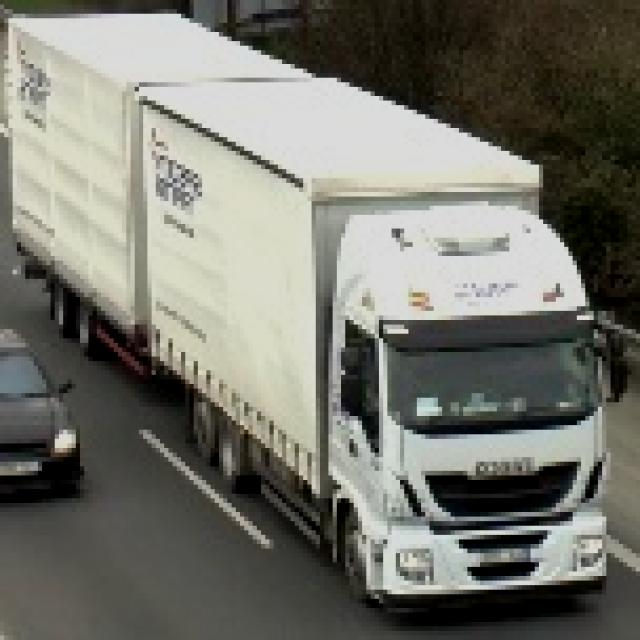SED: (0, 326, 85, 492)
TRUCK: (4, 4, 624, 620)
